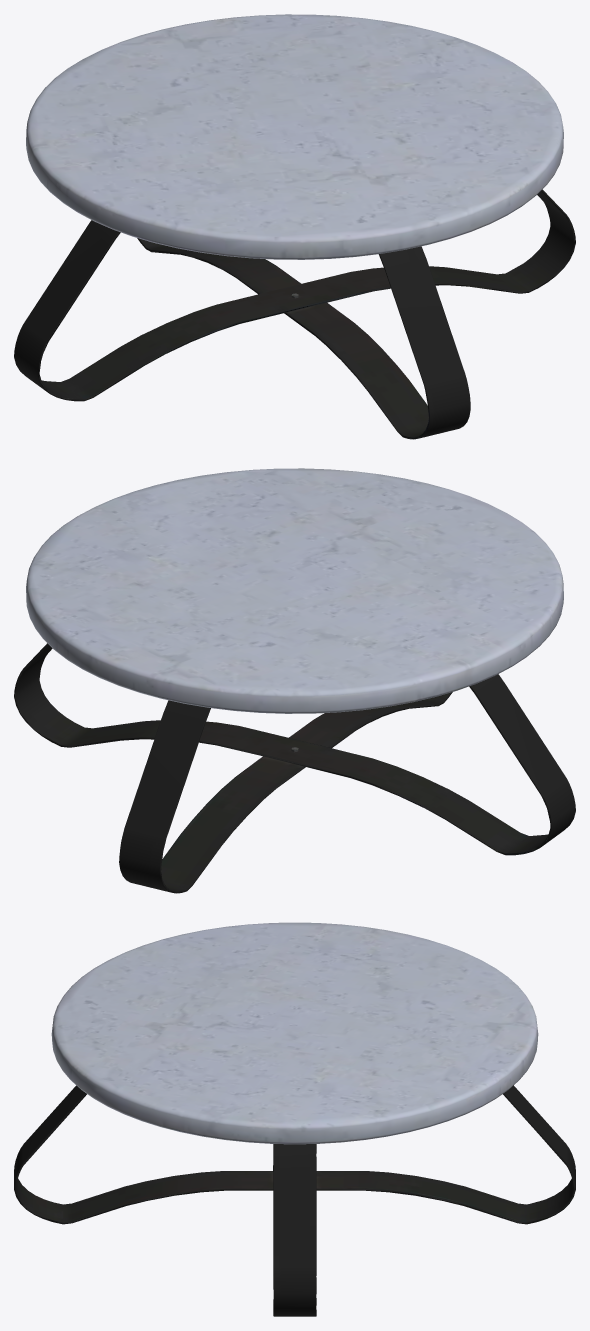
Rendered from coffee_table_round_01.glb.
3 views of the same model, one above another, from view 1: azimuth 30°, elevation 25°; view 2: azimuth 150°, elevation 25°; view 3: azimuth 270°, elevation 25° (orthographic). The views are drawn at different scales.
Visible parts, largest first — view 1: coffee_table_round_01; view 2: coffee_table_round_01; view 3: coffee_table_round_01.
Part boxes in pixels (x1=…): coffee_table_round_01: x1=14, y1=14, x2=575, y2=439; coffee_table_round_01: x1=14, y1=468, x2=575, y2=893; coffee_table_round_01: x1=14, y1=922, x2=575, y2=1316.
Bounding box in the file's own units: 1.3 × 0.4911 × 1.3.
1 material, 1 textured.
